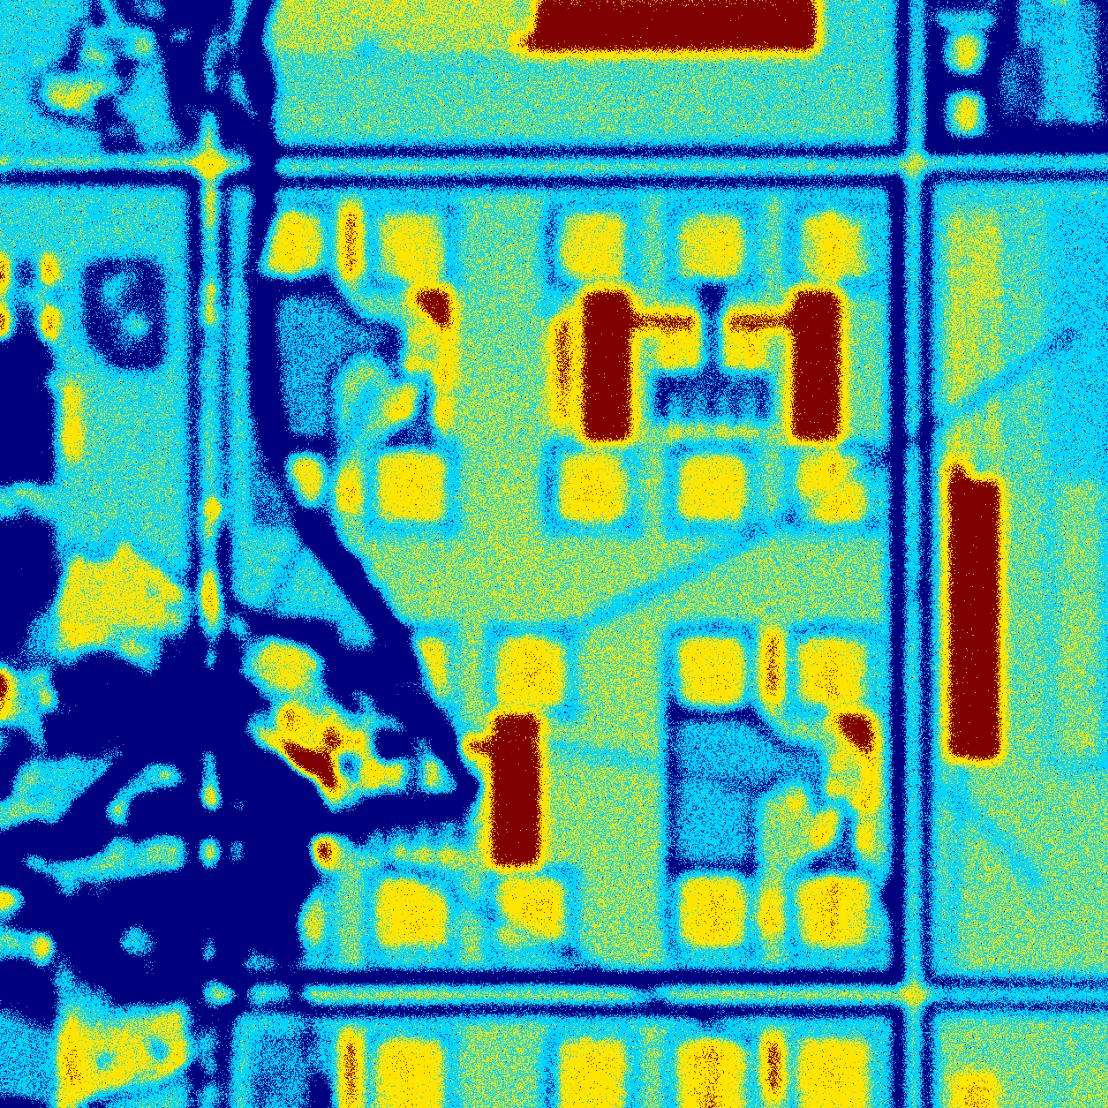Die: (215, 172, 908, 986)
Pad 3: (374, 879, 446, 949), (799, 876, 868, 947), (259, 210, 327, 282), (797, 454, 867, 523), (496, 878, 564, 949), (680, 876, 746, 949), (255, 451, 323, 521), (377, 452, 444, 522), (559, 454, 627, 522), (256, 634, 324, 702), (497, 637, 564, 705), (380, 636, 447, 704), (378, 213, 444, 281), (800, 638, 865, 705), (680, 638, 745, 705), (678, 456, 746, 520), (560, 213, 625, 279), (679, 215, 745, 278), (803, 212, 864, 279)
